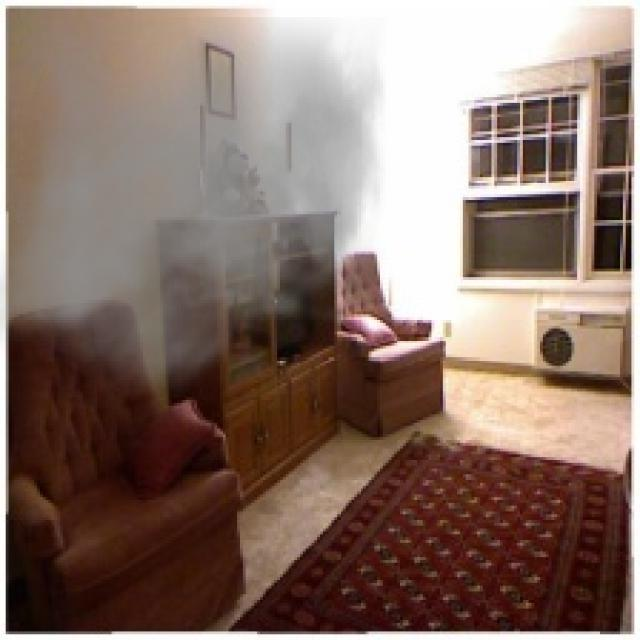Smoke: (0, 17, 386, 406)
